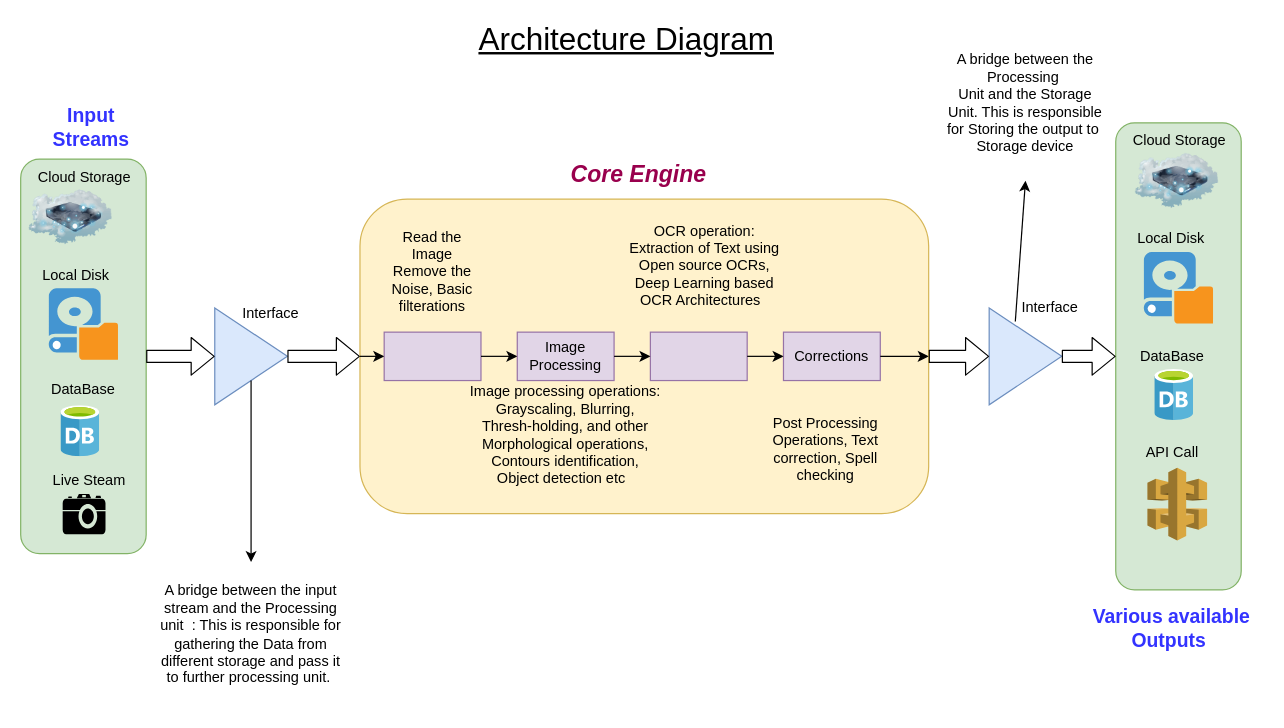
Some shapes in this 1284 by 728 pixel diagram are drawn without their labels. Each missing label, with the centre of its shape:
"Extraction (OCR)" belongs at point 698,356.
"Preprocessing" belongs at point 432,356.
